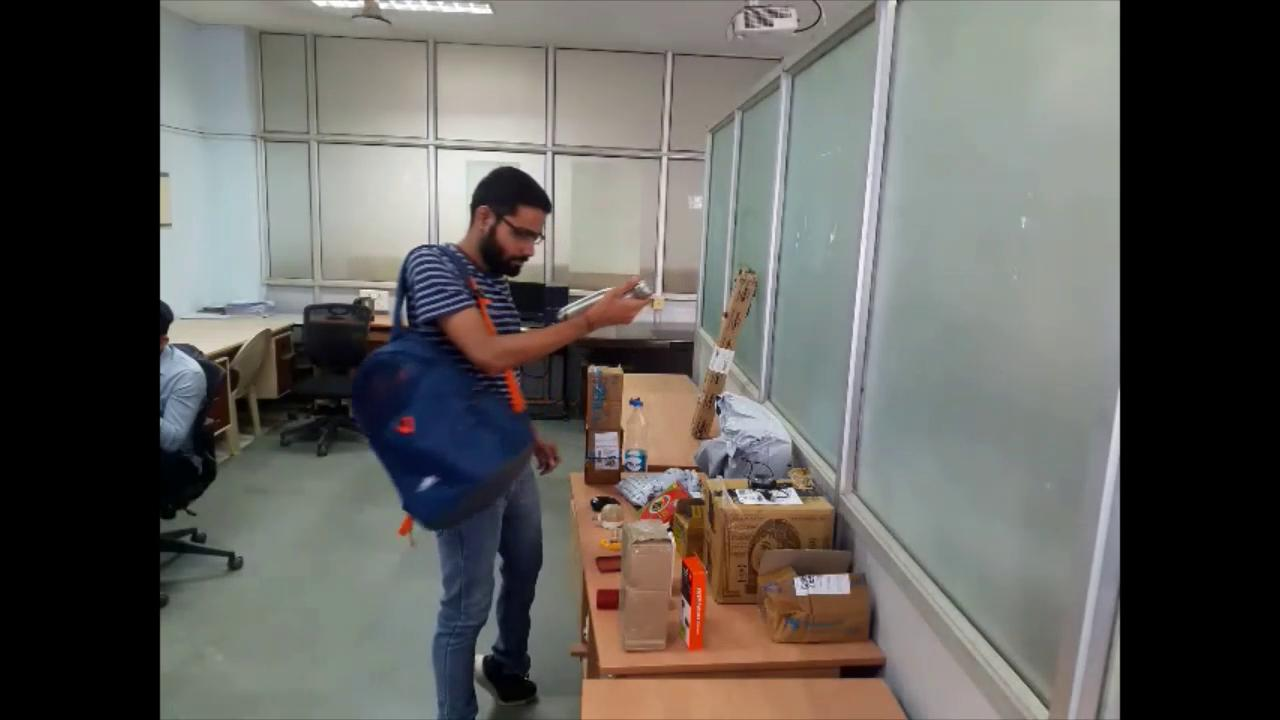Normal: (348, 162, 660, 715)
